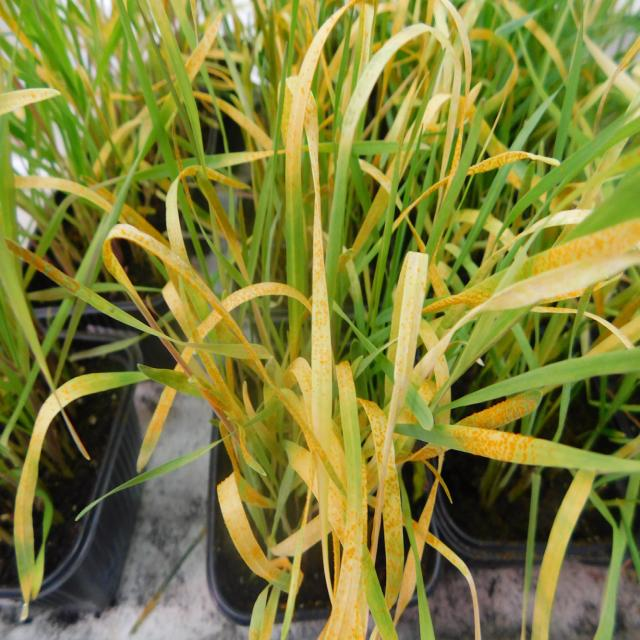wheat-yellowrust: (114, 227, 271, 377), (421, 218, 640, 315), (284, 14, 342, 251), (323, 360, 366, 640), (360, 401, 402, 613), (216, 480, 290, 587), (426, 425, 590, 467), (105, 251, 153, 322), (456, 396, 535, 432)
